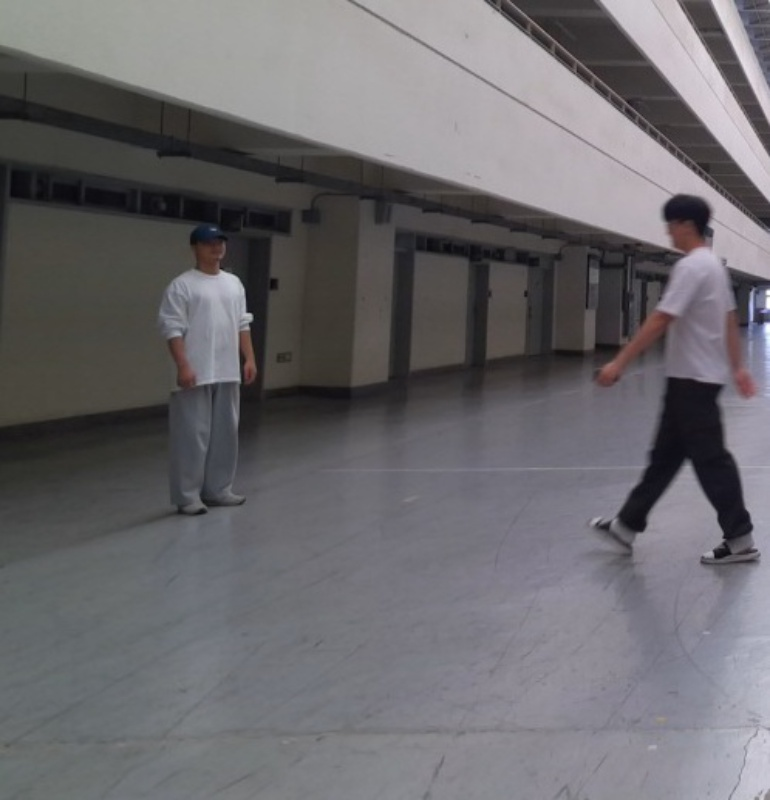person: (154, 221, 267, 518)
